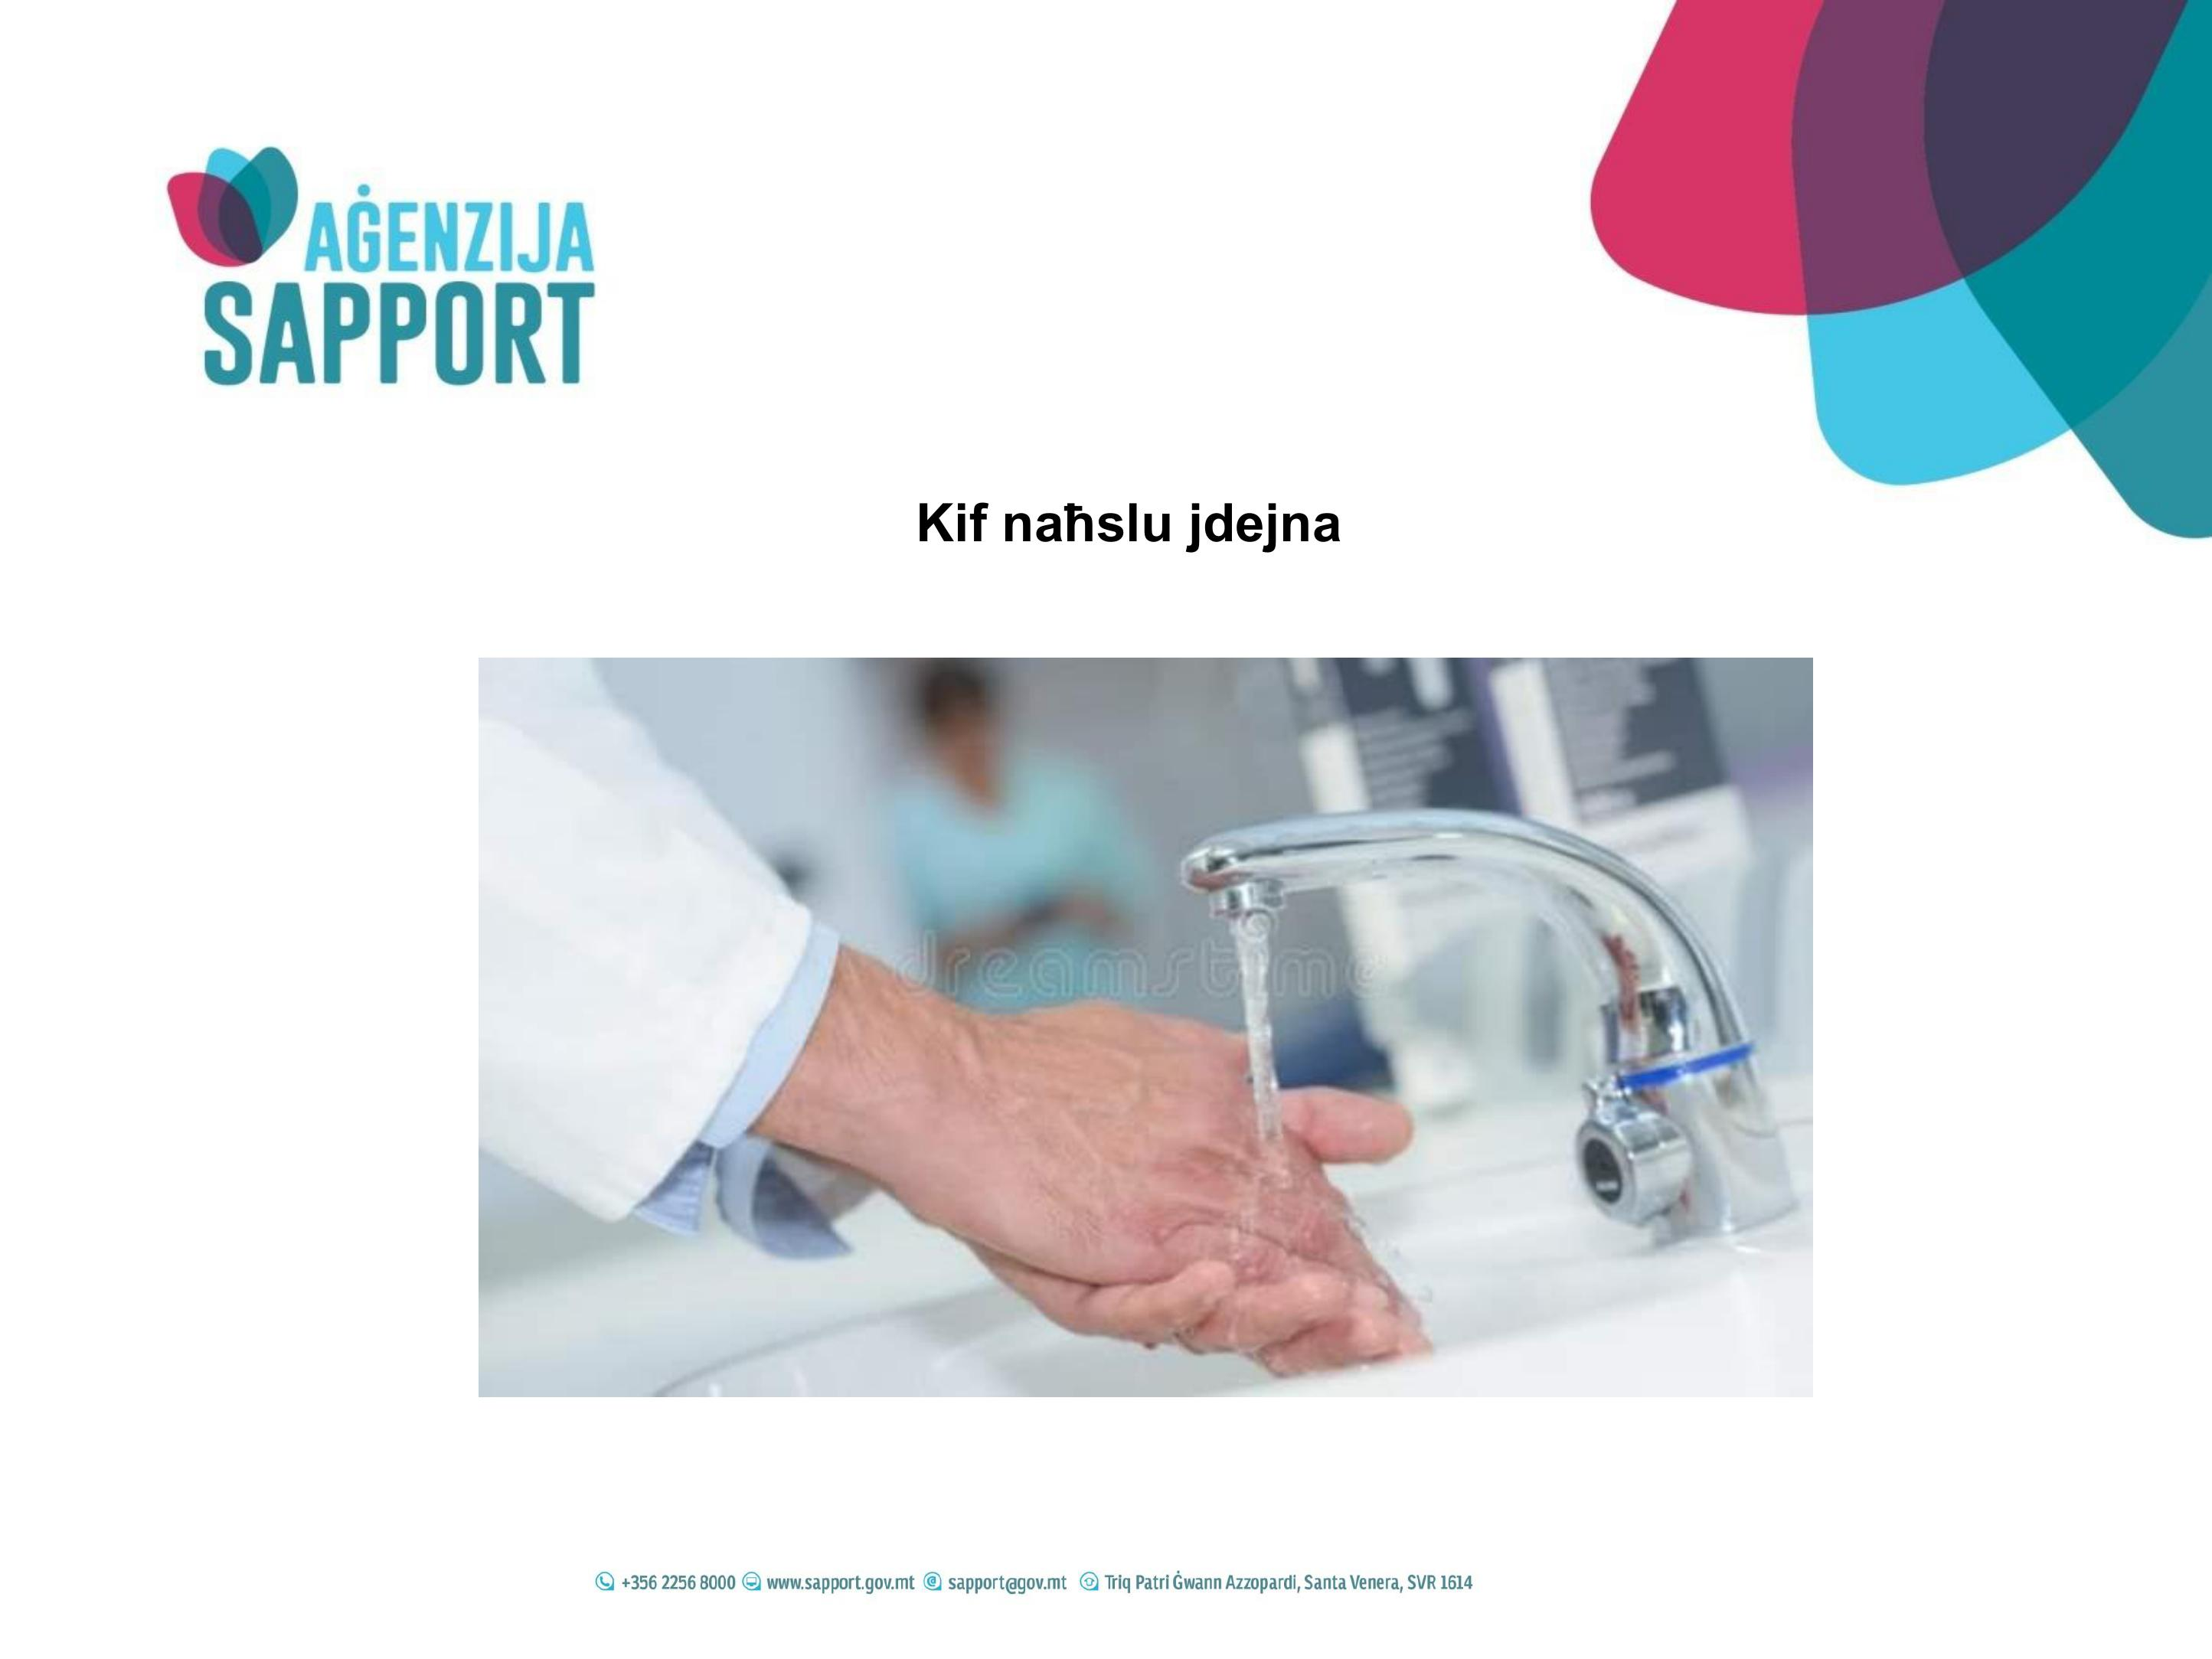text: (889, 467, 1363, 570)
